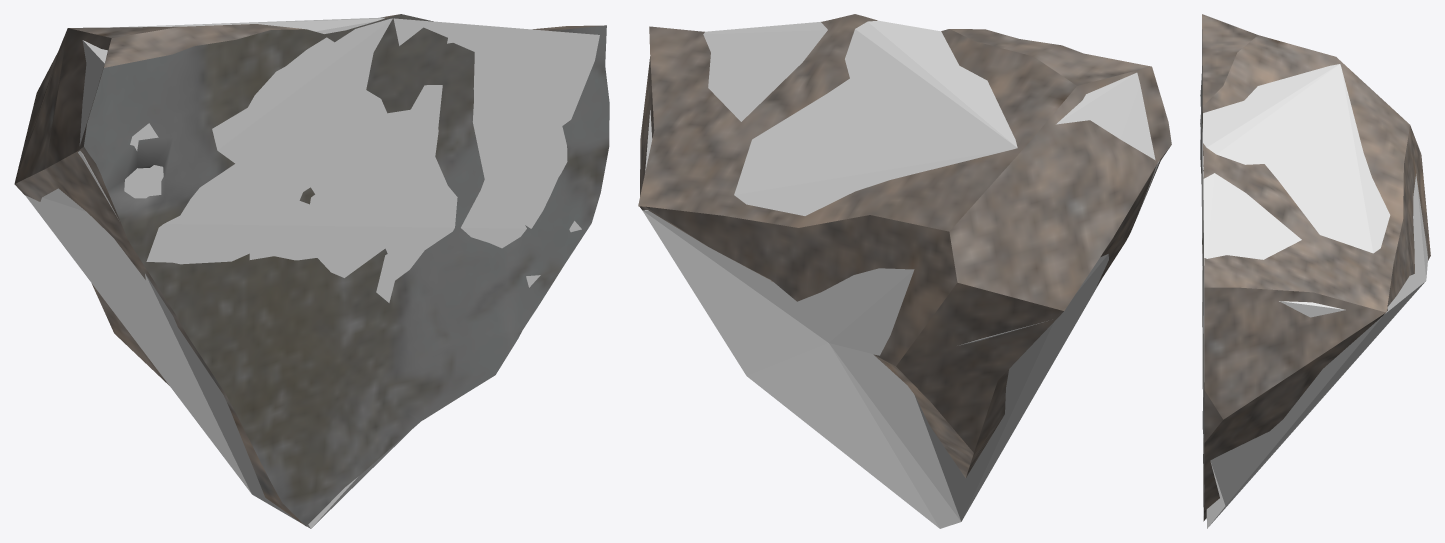
File: SM_Rock_21.fbx
3 views of the same model, side by side, from view 1: azimuth 30°, elevation 25°; view 2: azimuth 150°, elevation 25°; view 3: azimuth 270°, elevation 25° (orthographic). The views are drawn at different scales.
Parts seen in each view (by area): view 1: SM_Rock_21_LOD0, SM_Rock_21_ConvexHulls; view 2: SM_Rock_21_LOD0, SM_Rock_21_ConvexHulls; view 3: SM_Rock_21_LOD0, SM_Rock_21_ConvexHulls.
Boxes of the visible parts, x1,y1,x2,y2 form: SM_Rock_21_LOD0: [14, 14, 609, 526]; SM_Rock_21_ConvexHulls: [25, 17, 599, 528]; SM_Rock_21_LOD0: [638, 14, 1171, 477]; SM_Rock_21_ConvexHulls: [642, 20, 1159, 528]; SM_Rock_21_LOD0: [1200, 14, 1430, 521]; SM_Rock_21_ConvexHulls: [1201, 64, 1427, 528].
Size of the model in its own units: 50.59 by 22.98 by 47.34.
